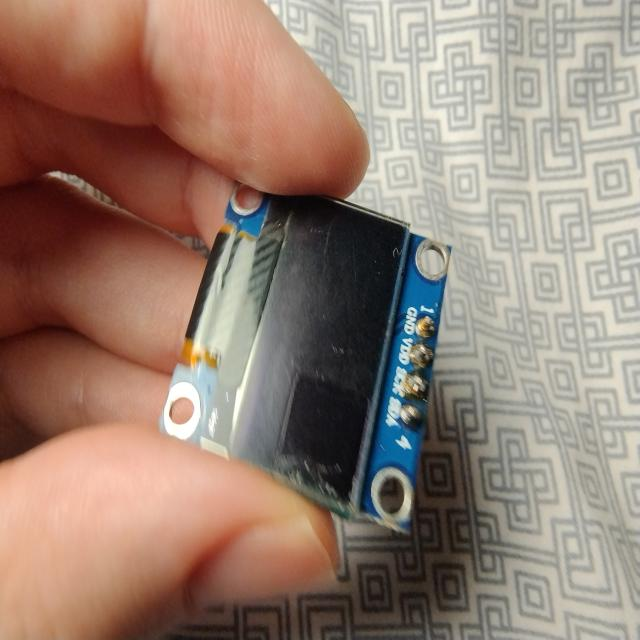oled: (156, 157, 458, 539)
